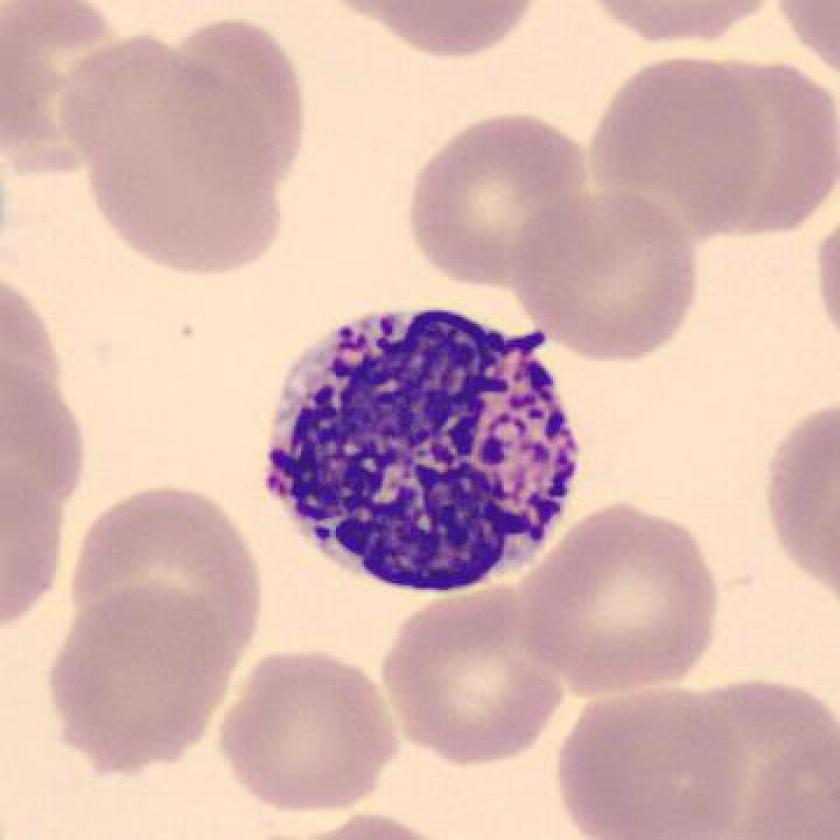basophil: (249, 295, 592, 598)
